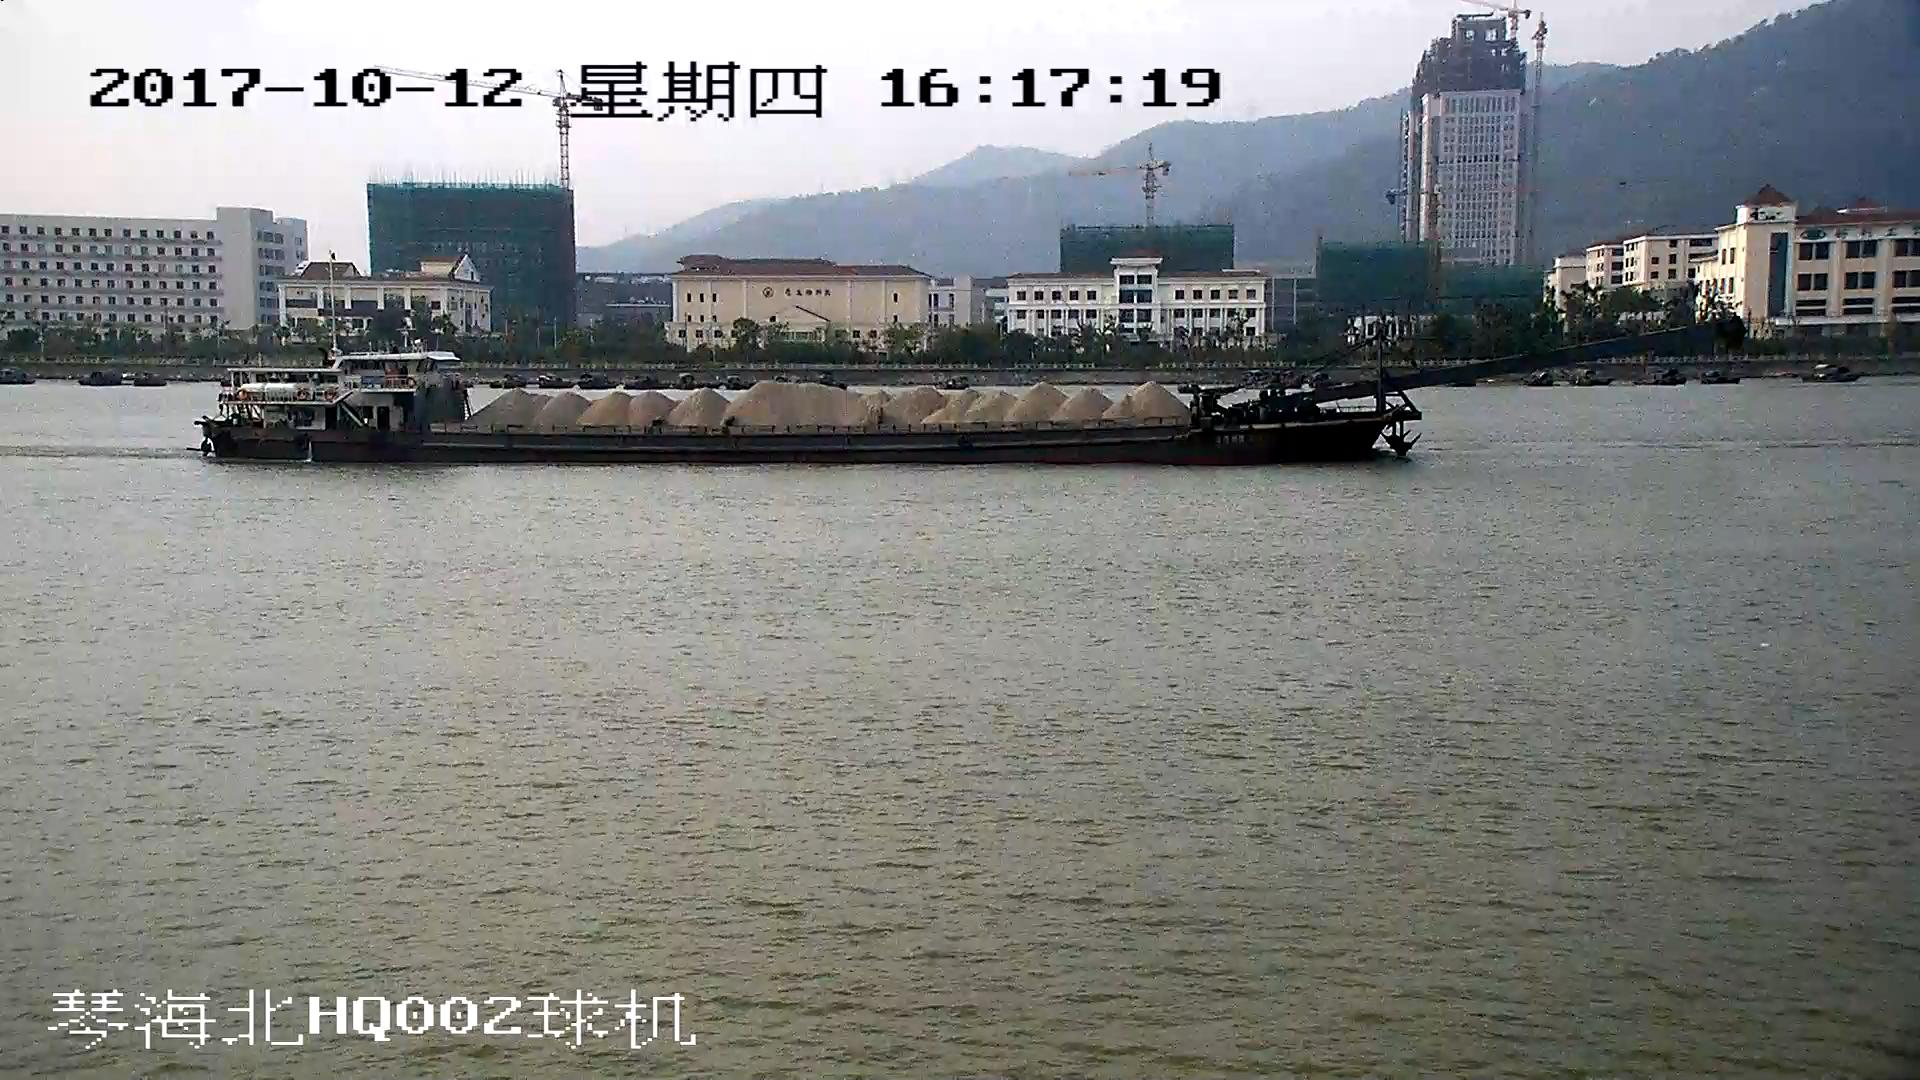ore carrier: (200, 317, 1735, 462)
